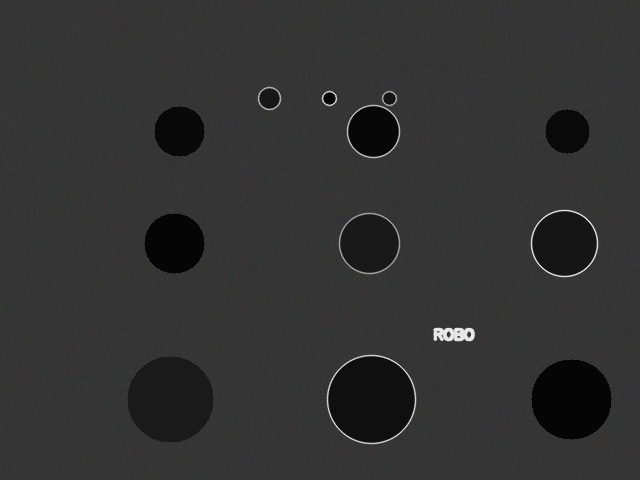hole: (327, 355, 415, 443), (127, 356, 213, 442), (531, 359, 611, 439), (531, 210, 597, 276), (144, 213, 204, 273), (339, 213, 399, 273), (347, 105, 399, 157), (154, 106, 204, 156), (545, 109, 589, 153), (258, 87, 280, 109), (322, 91, 336, 105), (382, 91, 396, 105)
